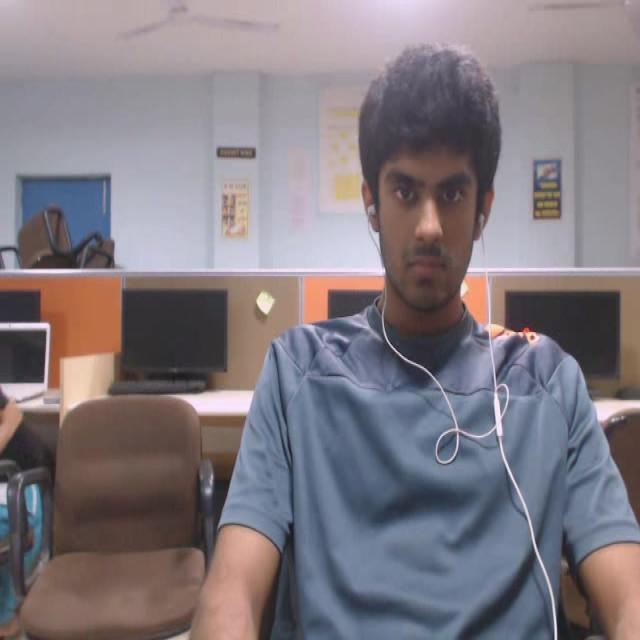Engaged: (335, 42, 519, 344)
